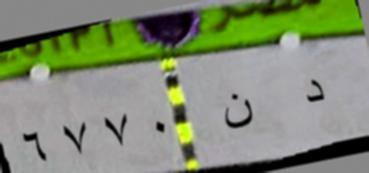0: (148, 114, 171, 144)
6: (21, 127, 50, 166)
7: (60, 114, 91, 160), (101, 110, 134, 152)
daal: (296, 70, 336, 114)
noon: (219, 85, 258, 136)
